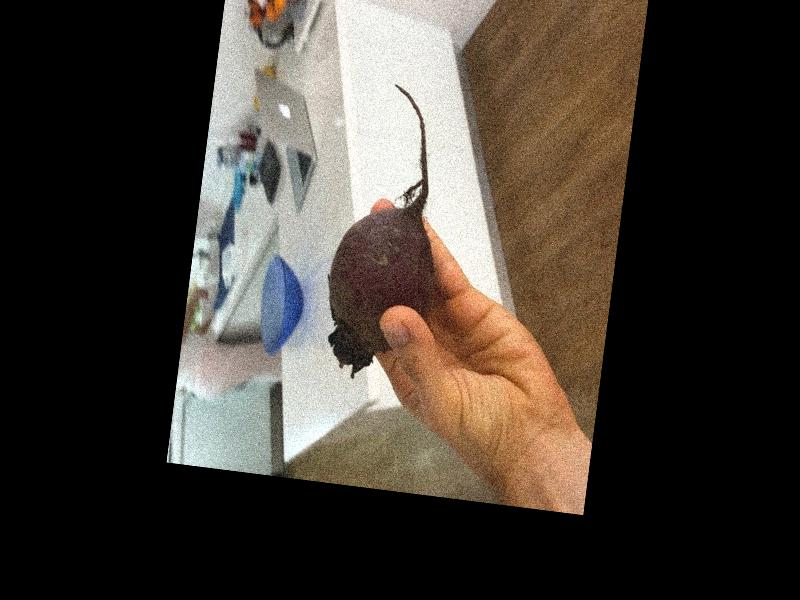Beet: (318, 79, 456, 383)
